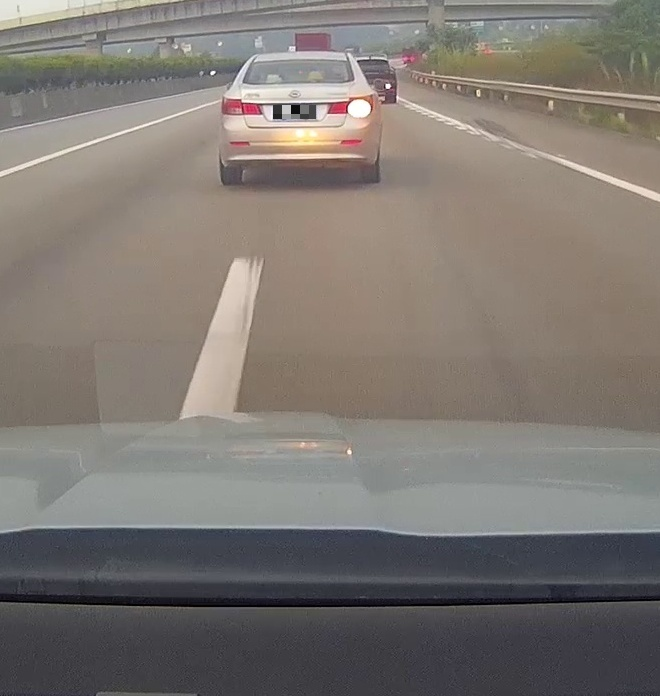L_light: (221, 96, 263, 114)
R_light: (327, 93, 373, 114)
T_light: (293, 59, 309, 62)
day-right: (218, 52, 381, 186)
plate_1: (273, 105, 316, 119)
